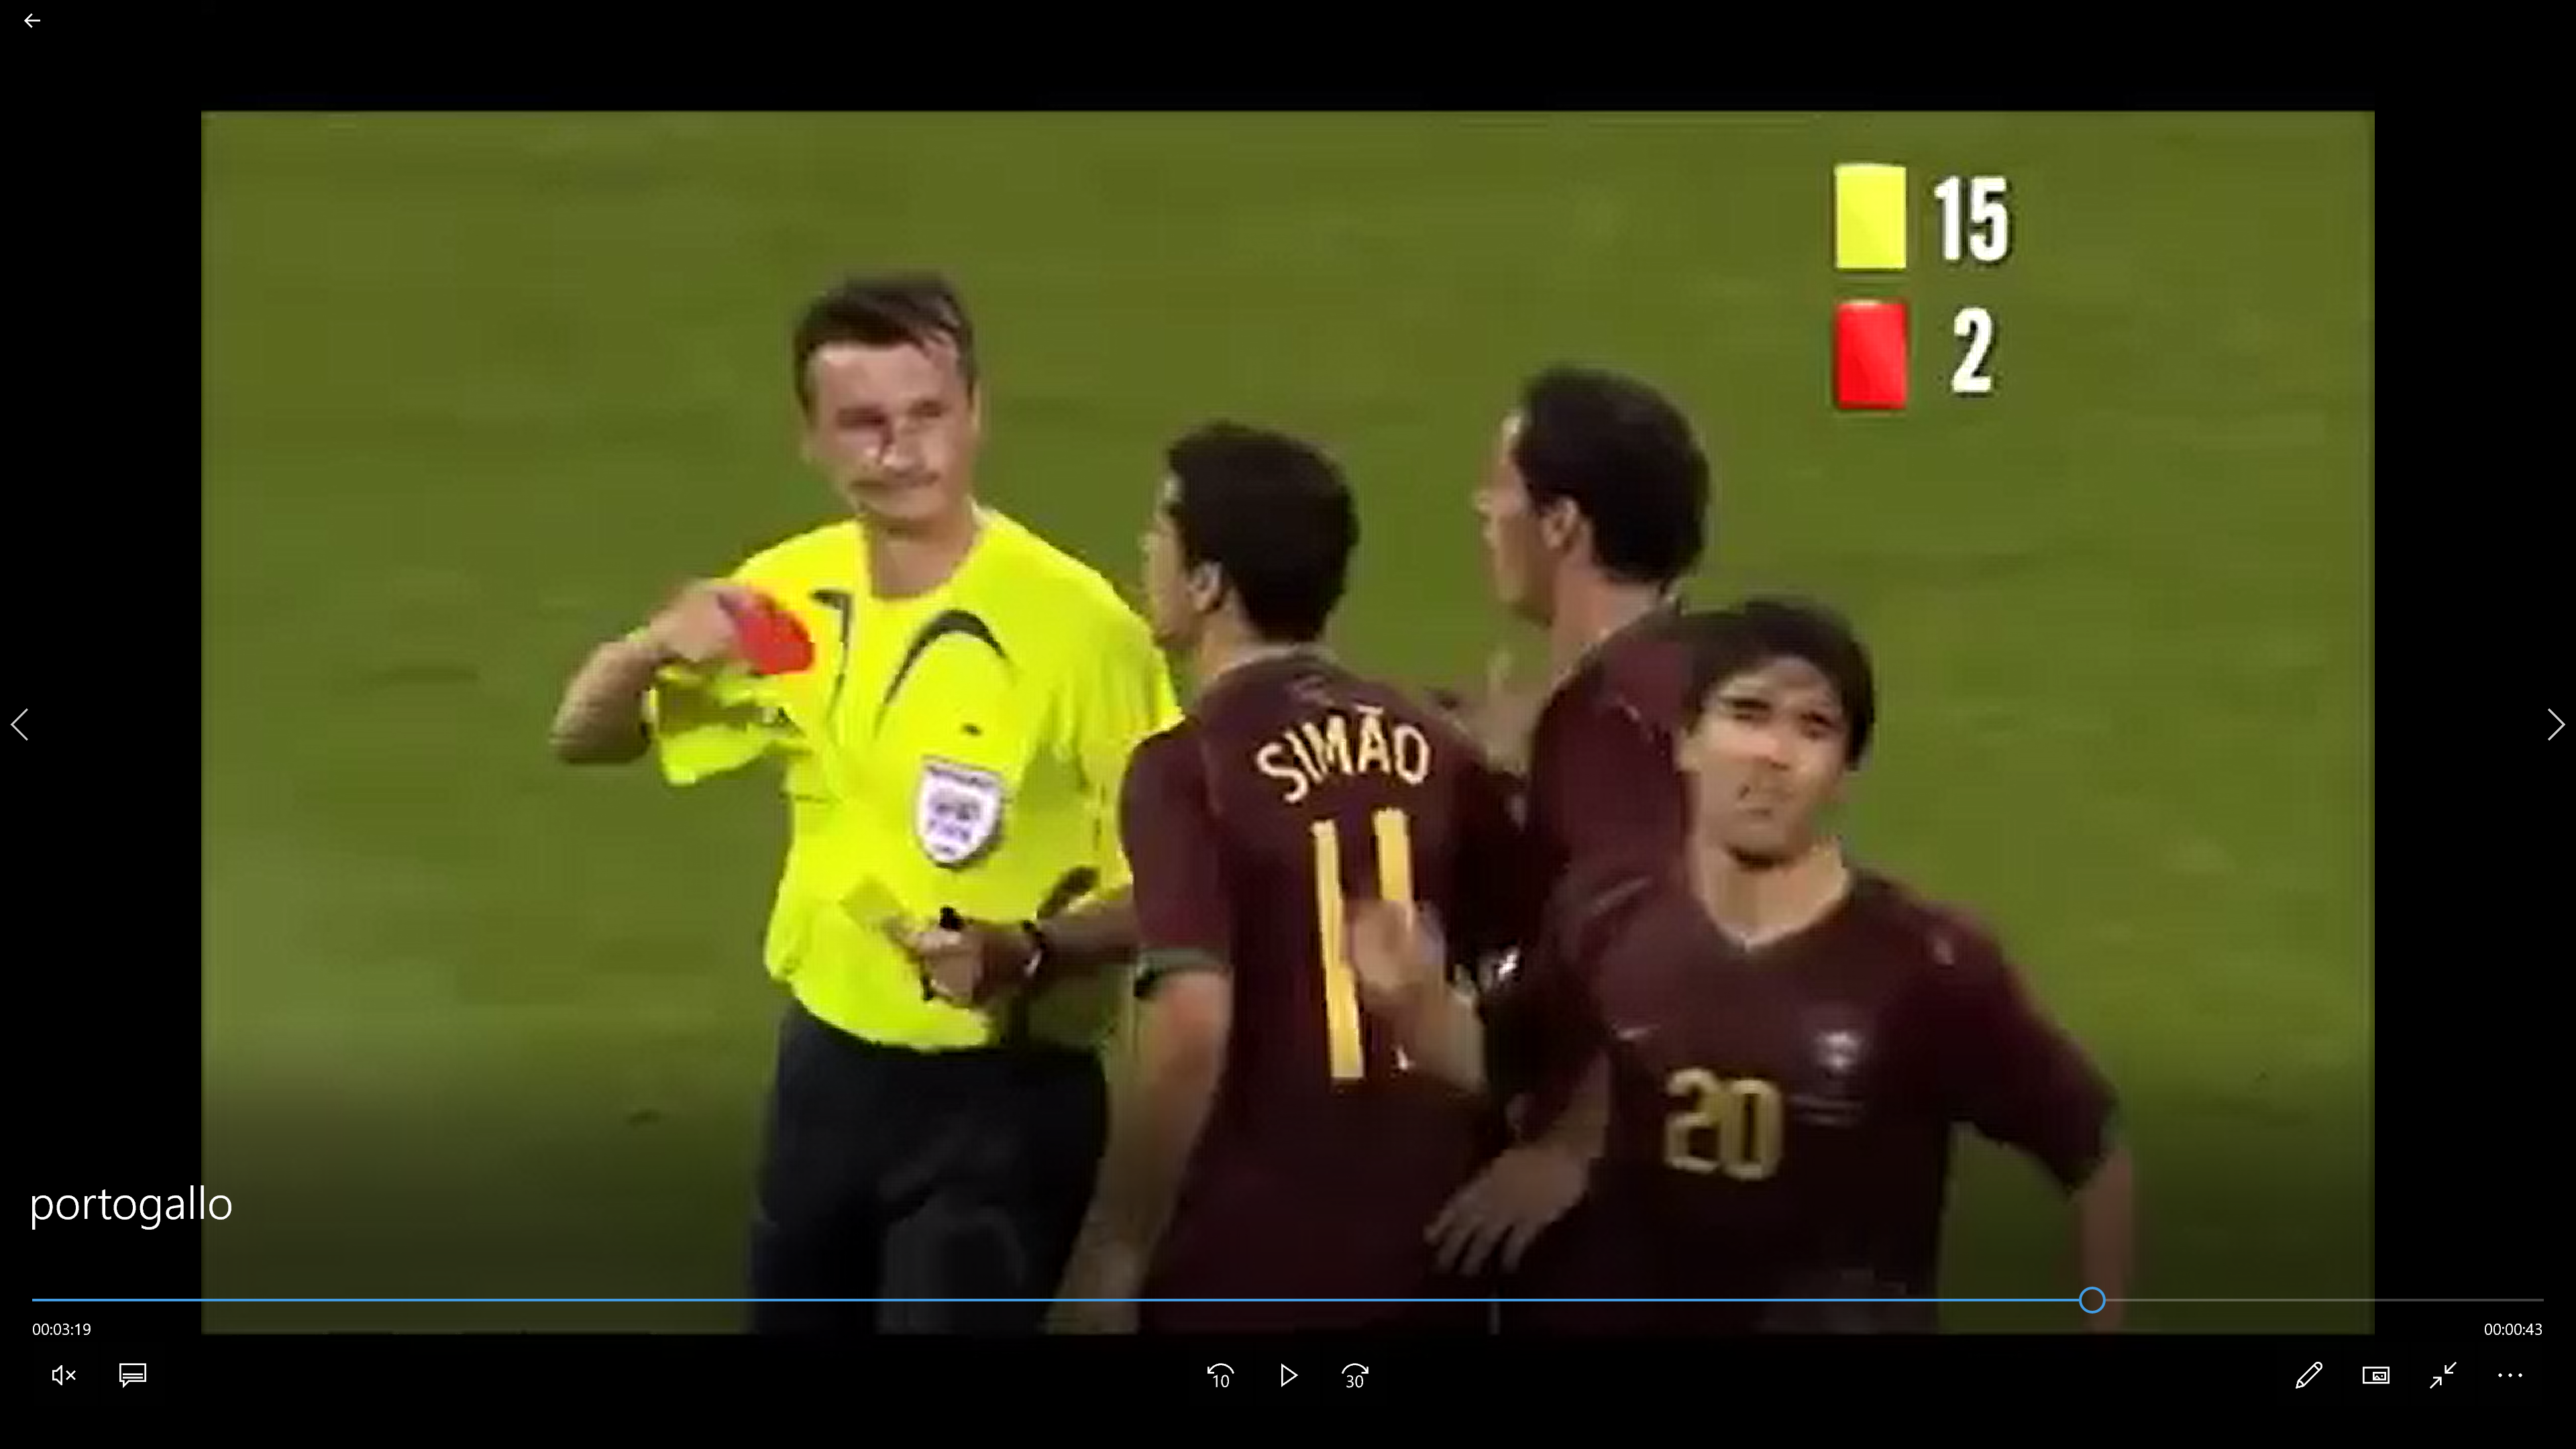red_card: (637, 550, 819, 694)
